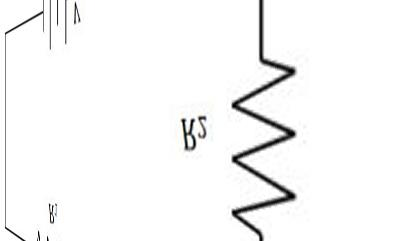resistor: (222, 44, 306, 230)
